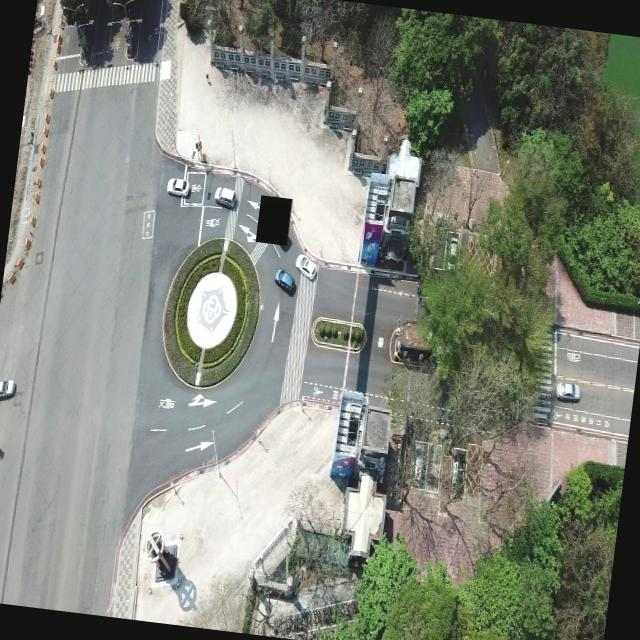car: (447, 444, 468, 504), (408, 441, 428, 492), (444, 228, 461, 273), (272, 267, 298, 296), (294, 252, 320, 280), (212, 185, 239, 211), (555, 380, 581, 402), (166, 174, 190, 197), (0, 375, 16, 402)
